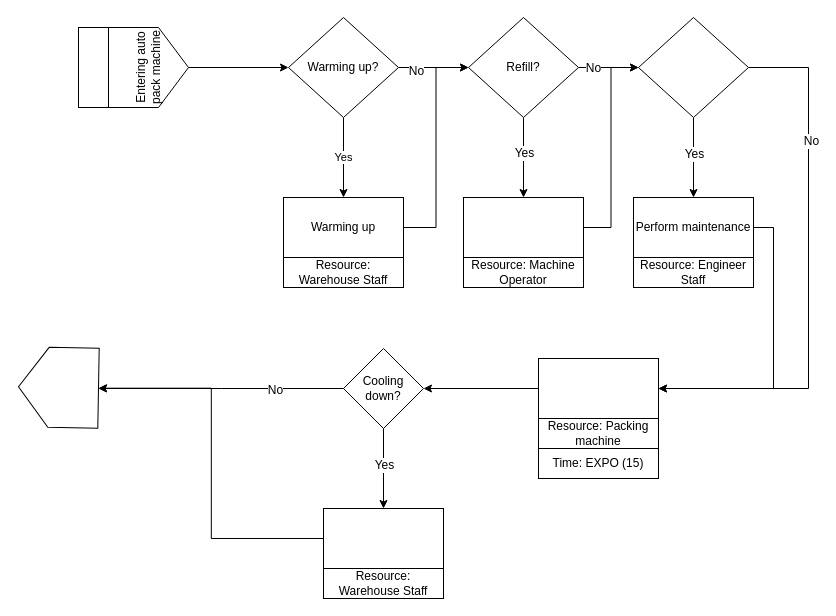
Some shapes in this 836 by 616 pixel diagram are drawn without their labels. Each missing label, with the centre of its shape:
"Change machine state to cooling down" goes at point 383,538.
"End" goes at point 58,387.
"Interarrival: EXPO (6)" goes at point 93,67.
"Maintenance?" goes at point 693,67.
"Packing" goes at point 598,388.
"Refilling" goes at point 523,227.
